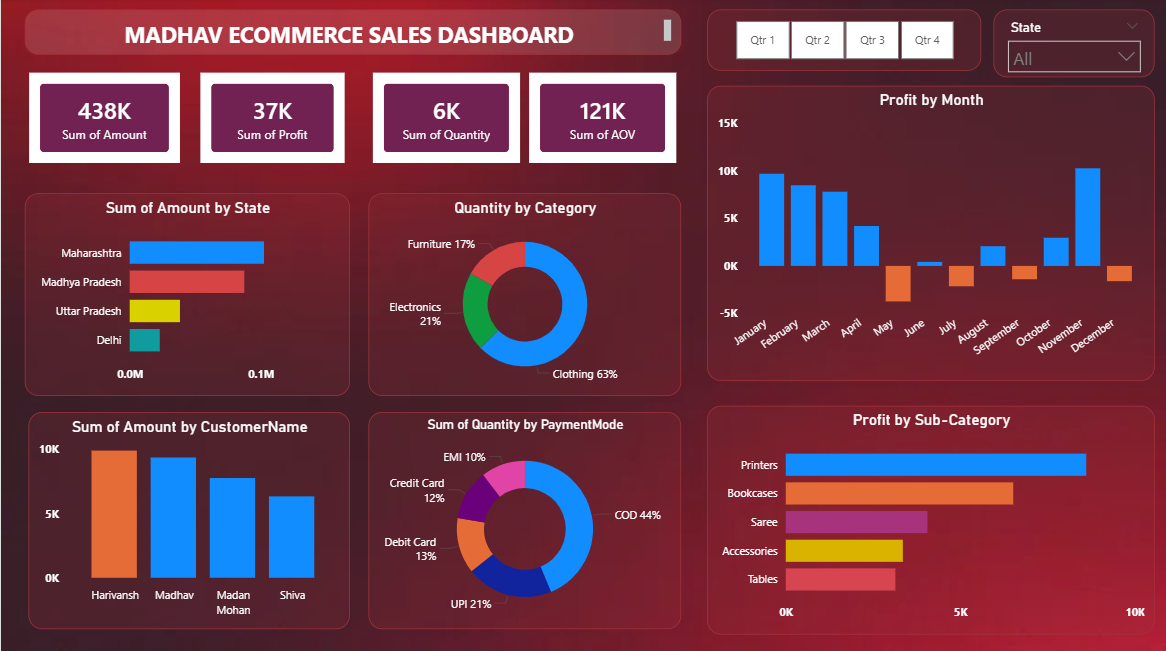

Layout of this report page (visuals, bound fields, positions):
{"tool":"powerbi","page":{"name":"Page 1","canvas":[1280,720],"ordinal":0},"visuals":[{"type":"textbox","box":[26.1,13.7,720.4,49.4],"z":0},{"type":"columnChart","title":"Profit by Month","fields":{"Y":["Sum(Details.Profit)"],"Category":["Orders.Order Date.Variation.Date Hierarchy.Month"]},"box":[775.3,97.4,491.3,323.8],"z":1000},{"type":"barChart","title":"Profit by Sub-Category","fields":{"Category":["Details.Sub-Category"],"Y":["Sum(Details.Profit)"]},"box":[775.3,448.7,491.3,251.1],"z":2000},{"type":"donutChart","title":"Quantity by Category","fields":{"Category":["Details.Category"],"Y":["Sum(Details.Quantity)"]},"box":[403.4,215.4,343.1,222.3],"z":3000},{"type":"donutChart","title":"Sum of Quantity by PaymentMode","fields":{"Category":["Details.PaymentMode"],"Y":["Sum(Details.Quantity)"]},"box":[403.4,455.6,343.1,238.8],"z":4000},{"type":"cardVisual","fields":{"Data":["Sum(Details.Amount)"]},"box":[26.1,78.2,175.6,109.8],"z":5000},{"type":"cardVisual","fields":{"Data":["Sum(Details.Profit)"]},"box":[214.1,78.2,168.8,109.8],"z":6000},{"type":"cardVisual","fields":{"Data":["Sum(Details.Quantity)"]},"box":[403.4,78.2,171.5,109.8],"z":7000},{"type":"cardVisual","fields":{"Data":["Sum(Details.AOV)"]},"box":[575,78.2,171.5,109.8],"z":8000},{"type":"barChart","title":"Sum of Amount by State","fields":{"Category":["Orders.State"],"Y":["Sum(Details.Amount)"]},"box":[26.1,215.4,356.8,222.3],"z":9000},{"type":"columnChart","fields":{"Category":["Orders.CustomerName"],"Y":["Sum(Details.Amount)"]},"box":[30.2,455.6,352.7,238.8],"z":10000},{"type":"slicer","fields":{"Values":["Orders.Order Date.Variation.Date Hierarchy.Quarter"]},"box":[775.3,13.7,300.5,67.2],"z":11000},{"type":"slicer","fields":{"Values":["Orders.State"]},"box":[1089.5,13.7,177,74.1],"z":12000}]}

Visuals, with their boxes in screenshot pixels (x1, y1, x2, y2), scaled from the page's 1280x720 canvas onto the 1166x651 screenshot:
textbox: rect(24, 12, 680, 57)
"Profit by Month" columnChart: rect(706, 88, 1154, 381)
"Profit by Sub-Category" barChart: rect(706, 406, 1154, 633)
"Quantity by Category" donutChart: rect(367, 195, 680, 396)
"Sum of Quantity by PaymentMode" donutChart: rect(367, 412, 680, 628)
cardVisual - Sum(Details.Amount): rect(24, 71, 184, 170)
cardVisual - Sum(Details.Profit): rect(195, 71, 349, 170)
cardVisual - Sum(Details.Quantity): rect(367, 71, 524, 170)
cardVisual - Sum(Details.AOV): rect(524, 71, 680, 170)
"Sum of Amount by State" barChart: rect(24, 195, 349, 396)
columnChart - Orders.CustomerName x Sum(Details.Amount): rect(28, 412, 349, 628)
slicer - Orders.Order Date.Variation.Date Hierarchy.Quarter: rect(706, 12, 980, 73)
slicer - Orders.State: rect(992, 12, 1154, 79)
